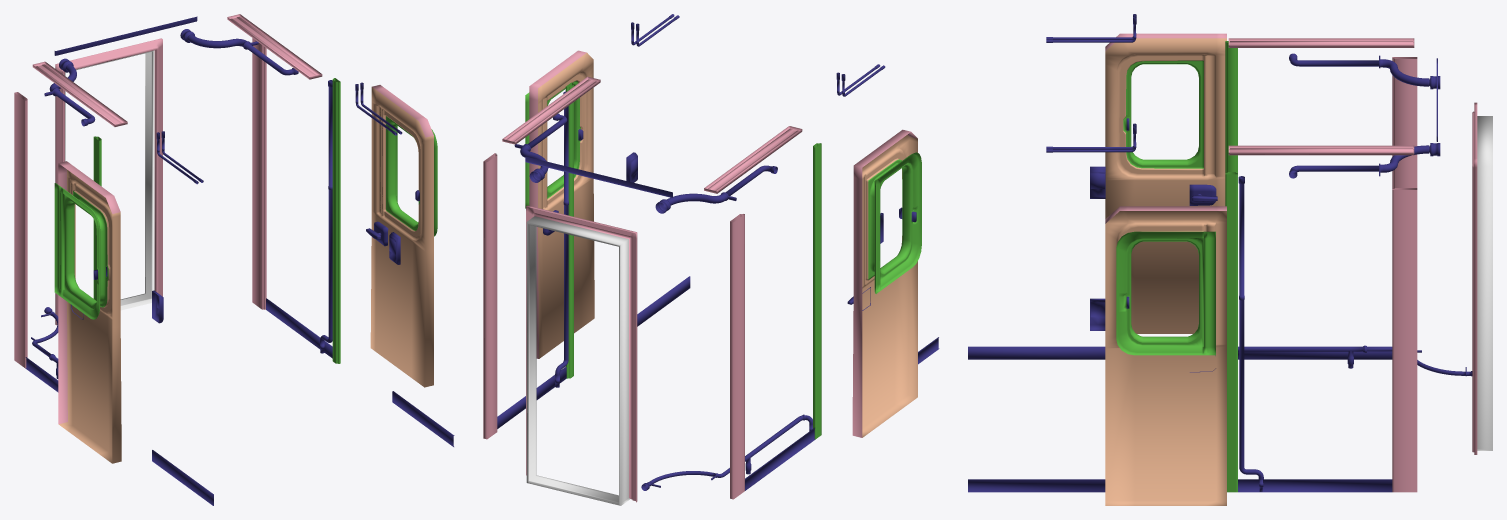
Rendered from SM_CabinProps.fbx.
3 views of the same model, side by side, from view 1: azimuth 30°, elevation 25°; view 2: azimuth 150°, elevation 25°; view 3: azimuth 270°, elevation 25° (orthographic). The views are drawn at different scales.
Parts seen in each view (by area): view 1: CabinProps_low.001, CabinProps_low.003, SM_CabinProps, CabinProps_low.002, CabinProps_low.004; view 2: CabinProps_low.003, CabinProps_low.001, CabinProps_low.002, SM_CabinProps, CabinProps_low.004; view 3: CabinProps_low.001, CabinProps_low.003, SM_CabinProps, CabinProps_low.002, CabinProps_low.004.
Boxes of the visible parts, bbox=[...] form: CabinProps_low.001: bbox=[59, 87, 433, 463]; CabinProps_low.003: bbox=[14, 14, 433, 424]; SM_CabinProps: bbox=[25, 16, 454, 505]; CabinProps_low.002: bbox=[54, 78, 437, 363]; CabinProps_low.004: bbox=[65, 50, 154, 310]; CabinProps_low.003: bbox=[483, 50, 917, 502]; CabinProps_low.001: bbox=[538, 53, 917, 437]; CabinProps_low.002: bbox=[525, 80, 921, 439]; SM_CabinProps: bbox=[497, 14, 939, 490]; CabinProps_low.004: bbox=[526, 216, 629, 505]; CabinProps_low.001: bbox=[1105, 38, 1226, 505]; CabinProps_low.003: bbox=[1105, 33, 1477, 492]; SM_CabinProps: bbox=[968, 14, 1472, 492]; CabinProps_low.002: bbox=[1116, 41, 1237, 492]; CabinProps_low.004: bbox=[1477, 116, 1492, 450].
Size of the model in its own units: 2.81 by 2.49 by 3.34.
